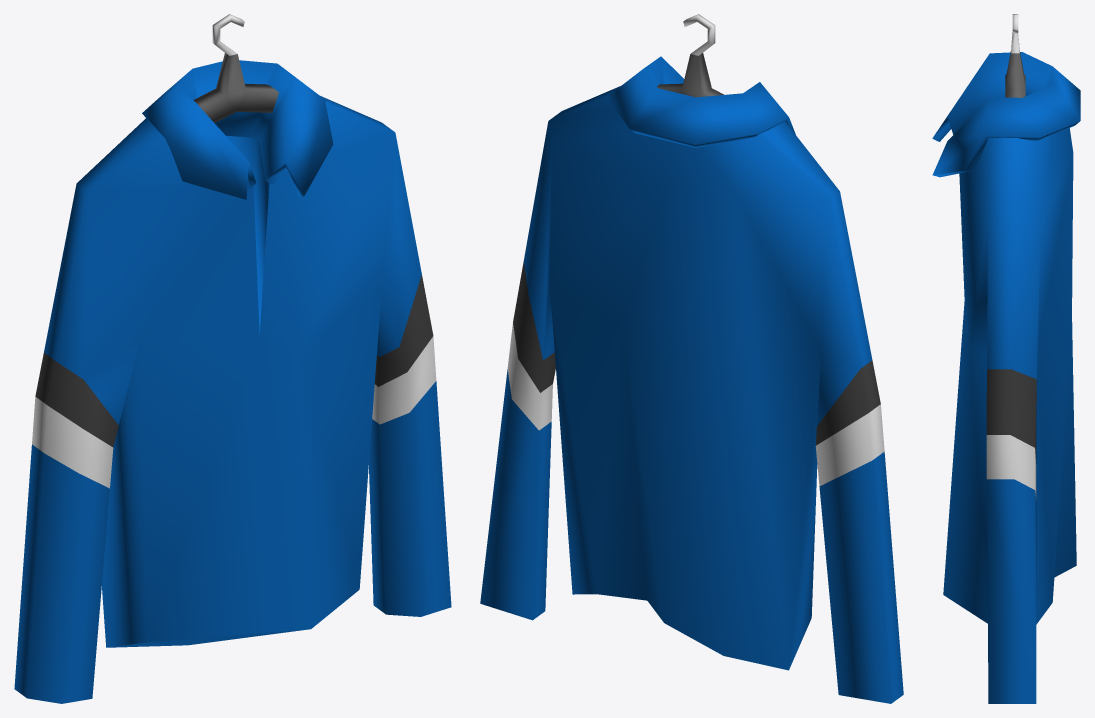
Rendered from clothes_029.glb.
3 renders of one model, left to right at view 1: azimuth 30°, elevation 25°; view 2: azimuth 150°, elevation 25°; view 3: azimuth 270°, elevation 25°, orthographic. The views are drawn at different scales.
Parts seen in each view (by area): view 1: clothes_029; view 2: clothes_029; view 3: clothes_029.
Boxes of the visible parts, x1,y1,x2,y2 form: clothes_029: (14,14,451,703); clothes_029: (480,14,903,703); clothes_029: (932,14,1080,703).
Bounding box in the file's own units: 0.6414 × 0.9466 × 0.2131.
1 material, 1 textured.
